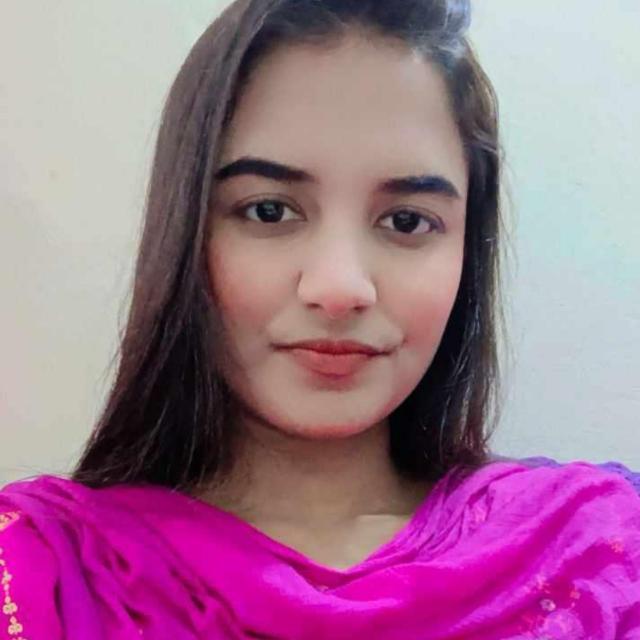Natural: (45, 25, 540, 514)
